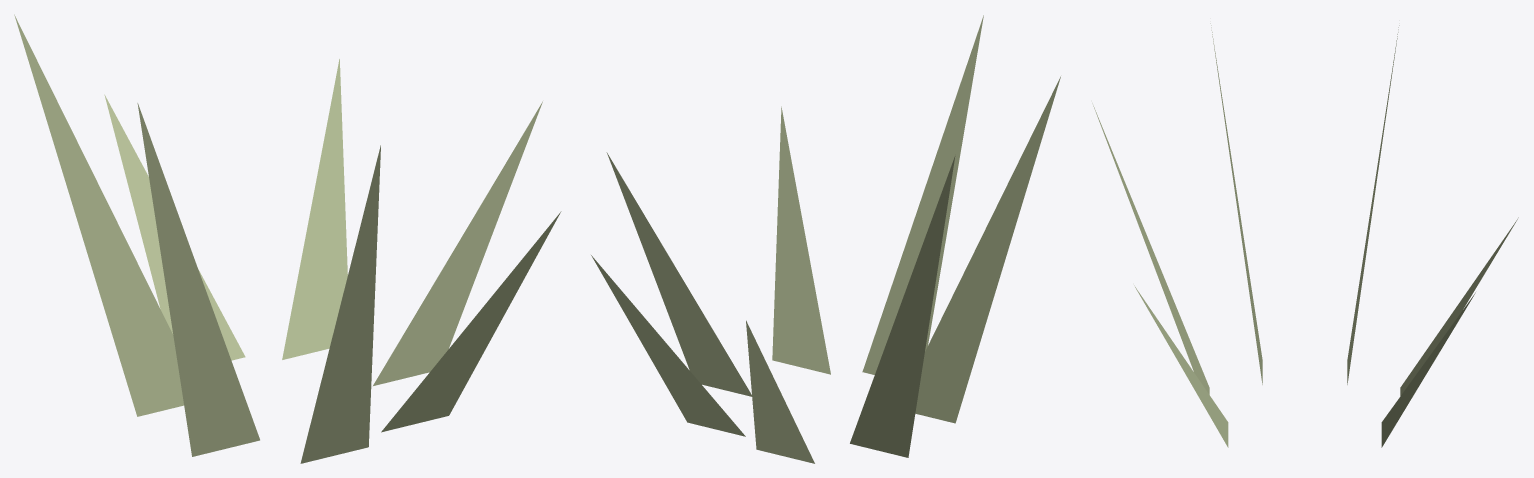
File: grass_clump.fbx
3 renders of one model, left to right at view 1: azimuth 30°, elevation 25°; view 2: azimuth 150°, elevation 25°; view 3: azimuth 270°, elevation 25°, orthographic. The views are drawn at different scales.
Visible parts, largest first — view 1: grass_clump_geometry; view 2: grass_clump_geometry; view 3: grass_clump_geometry.
Part boxes in pixels (box(x1,y1,x2,y2)): grass_clump_geometry: box(14, 14, 561, 463); grass_clump_geometry: box(591, 15, 1060, 463); grass_clump_geometry: box(1092, 23, 1518, 447).
Size of the model in its own units: 0.3422 by 0.2812 by 0.351.
